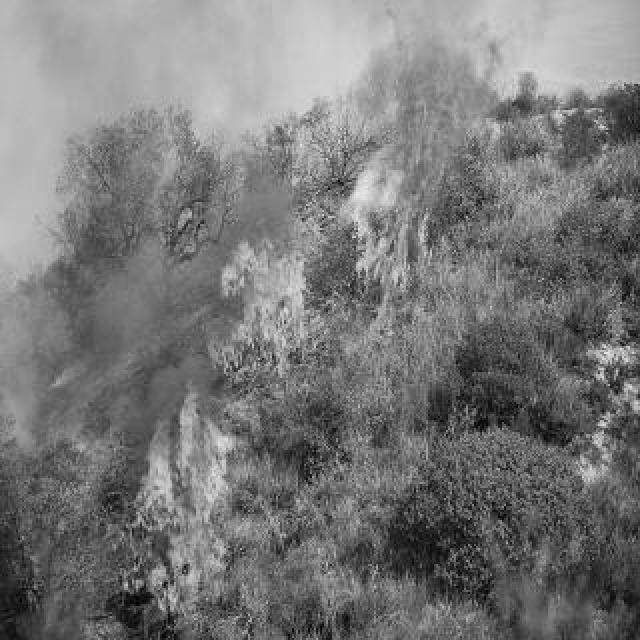fire: (134, 394, 232, 612), (206, 236, 320, 386), (360, 228, 466, 328), (400, 72, 466, 228), (6, 530, 50, 628)
smoke: (0, 236, 206, 436), (334, 2, 540, 122), (336, 146, 396, 230)
